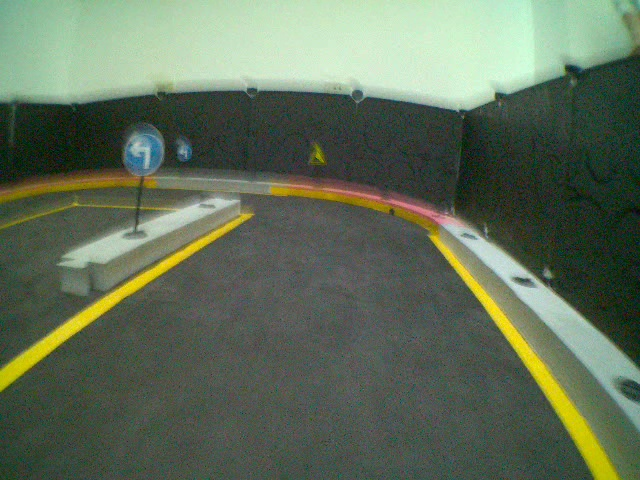fast: (308, 143, 329, 165)
turn: (123, 126, 166, 176), (175, 140, 192, 160)
